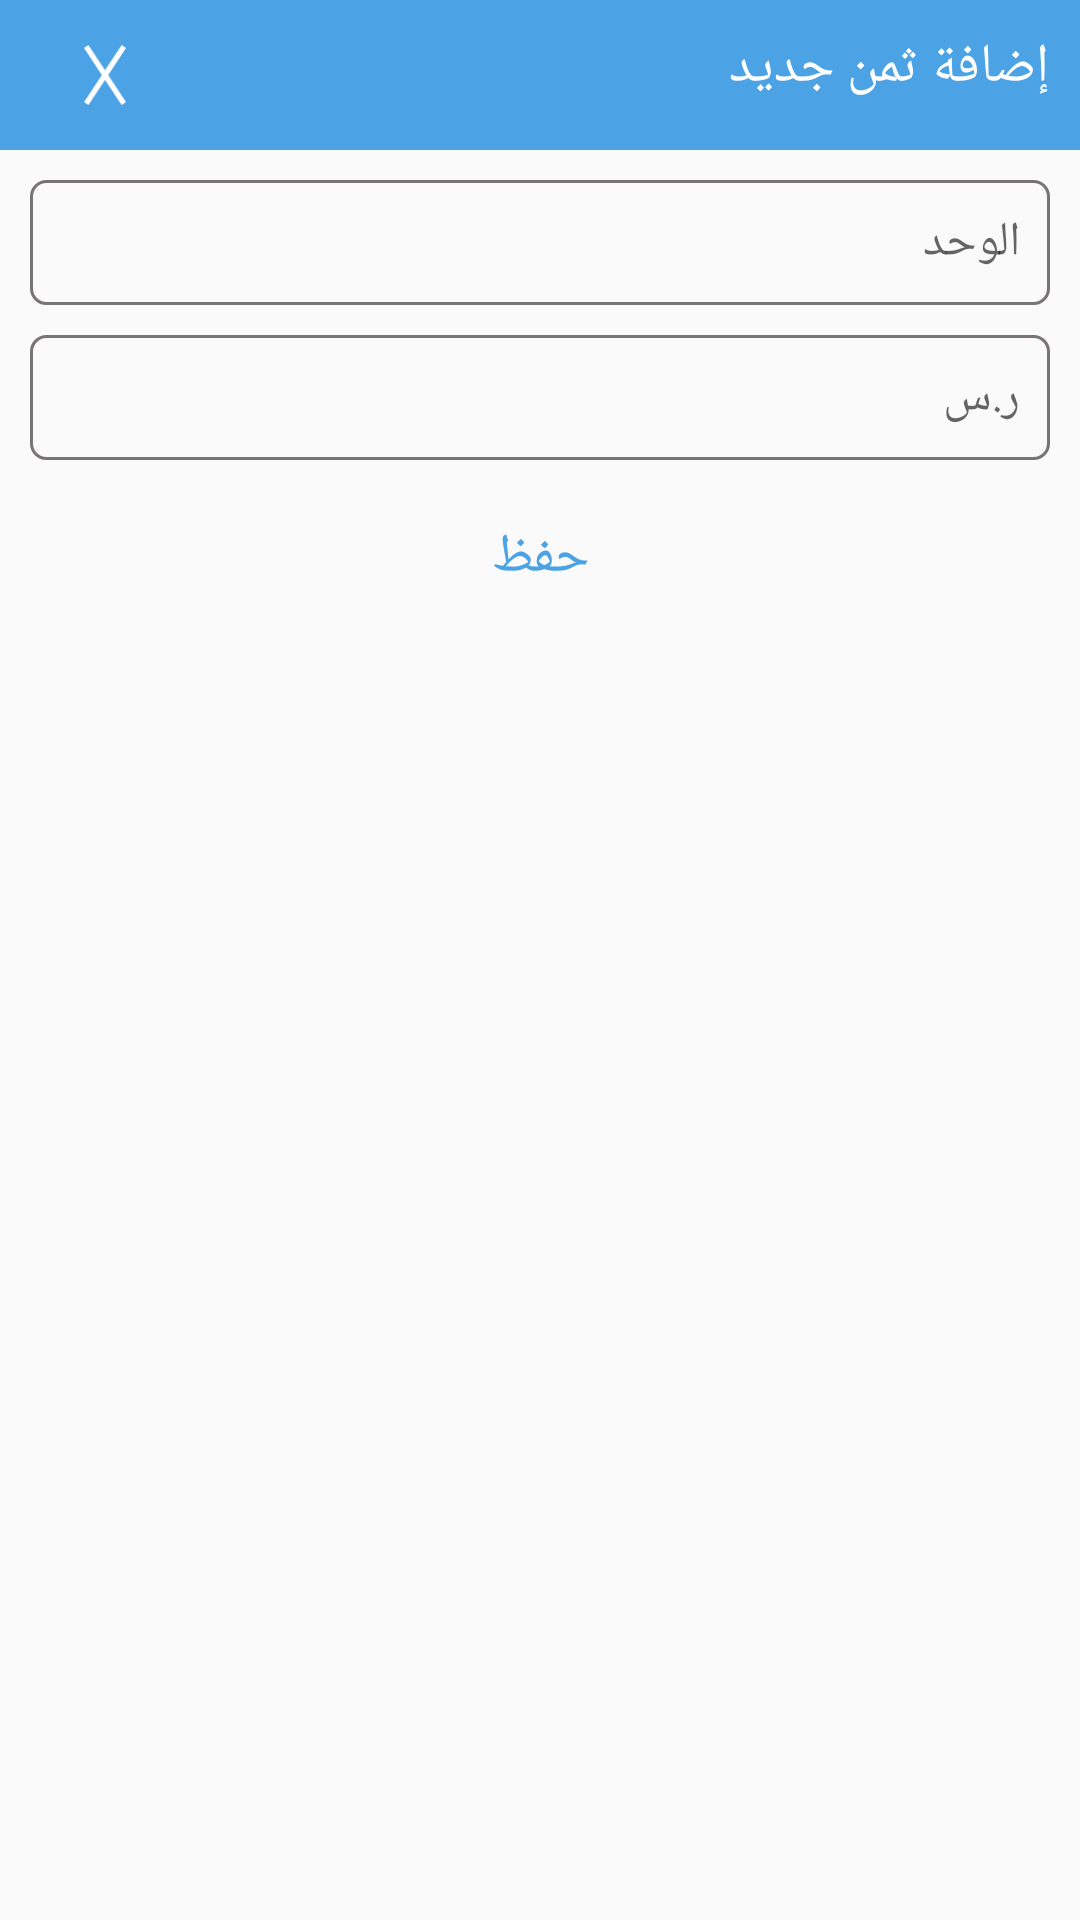

Icons on this 1080px x 1920px Android screen, each with its box as (x1, y1, x2, y2):
close: (84, 45, 126, 105)
